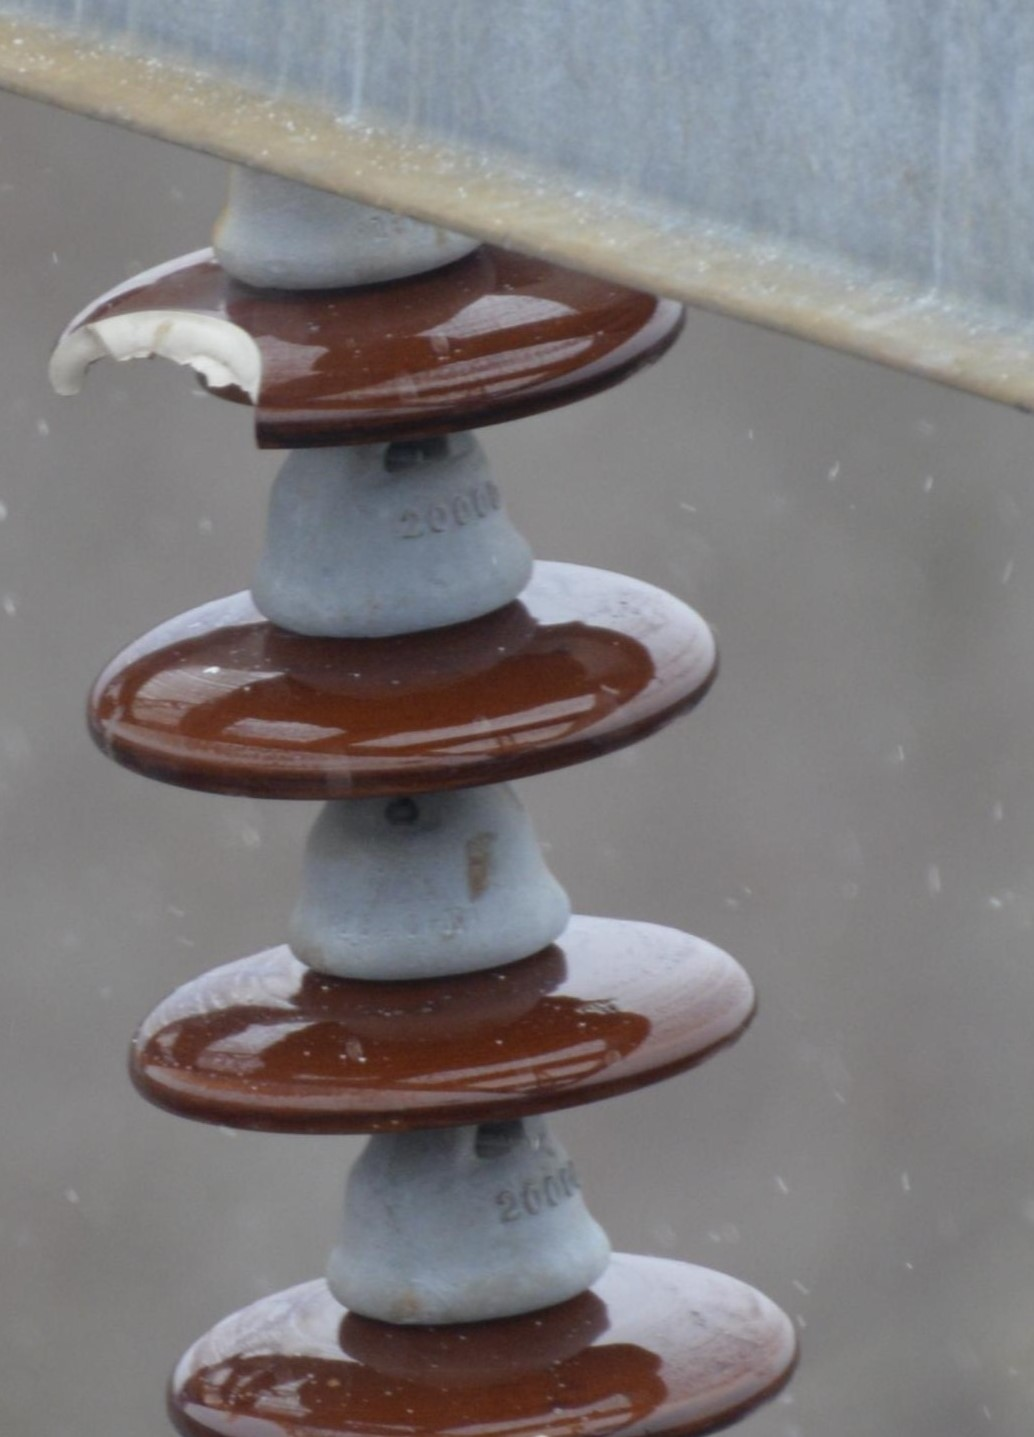insulator breakage: (32, 237, 687, 459)
